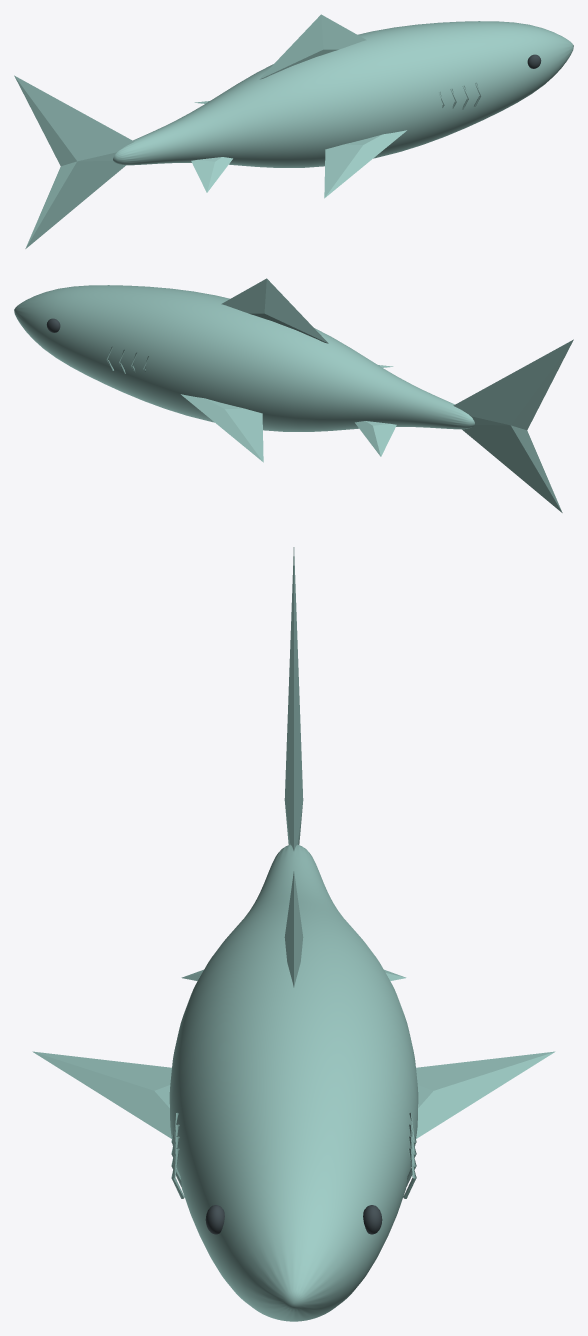
3 renders of one model, top to bottom at view 1: azimuth 30°, elevation 25°; view 2: azimuth 150°, elevation 25°; view 3: azimuth 270°, elevation 25°, orthographic. The views are drawn at different scales.
Visible parts, largest first — view 1: Body, Tail, Dorsal, Pectoral, Pelvic; view 2: Body, Tail, Dorsal, Pectoral.001, Pelvic.001; view 3: Body, Pectoral, Pectoral.001, Tail, Dorsal.
Boxes of the visible parts, left/top/right/bottom form: Body: left=113, top=21, right=573, bottom=167; Tail: left=14, top=75, right=134, bottom=248; Dorsal: left=259, top=14, right=366, bottom=79; Pectoral: left=324, top=130, right=406, bottom=198; Pelvic: left=191, top=157, right=232, bottom=192; Body: left=14, top=285, right=474, bottom=431; Tail: left=453, top=339, right=573, bottom=512; Dorsal: left=221, top=278, right=328, bottom=343; Pectoral.001: left=181, top=394, right=263, bottom=462; Pelvic.001: left=355, top=421, right=396, bottom=456; Body: left=169, top=844, right=418, bottom=1321; Pectoral: left=32, top=1051, right=171, bottom=1138; Pectoral.001: left=416, top=1051, right=555, bottom=1138; Tail: left=284, top=547, right=303, bottom=850; Dorsal: left=284, top=871, right=303, bottom=987.
Bounding box in the file's own units: 252 × 76 × 102.
